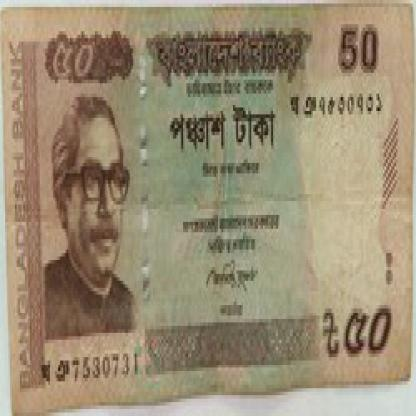Fifty taka: (318, 302, 401, 371), (46, 28, 102, 94)
